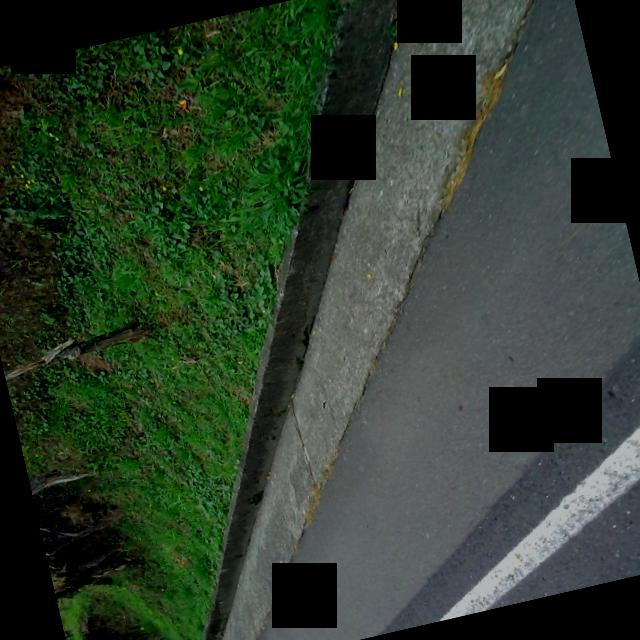DITCH: (45, 0, 640, 640), (53, 0, 640, 640), (66, 0, 640, 640)
